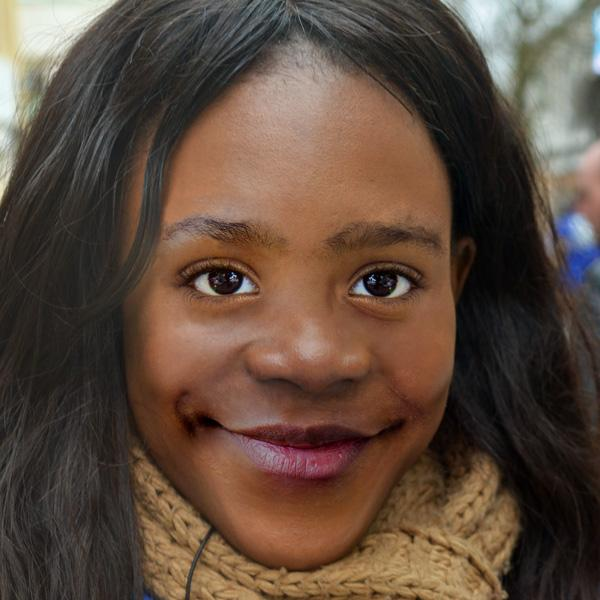Eyes: (168, 248, 272, 318), (337, 251, 431, 315)
